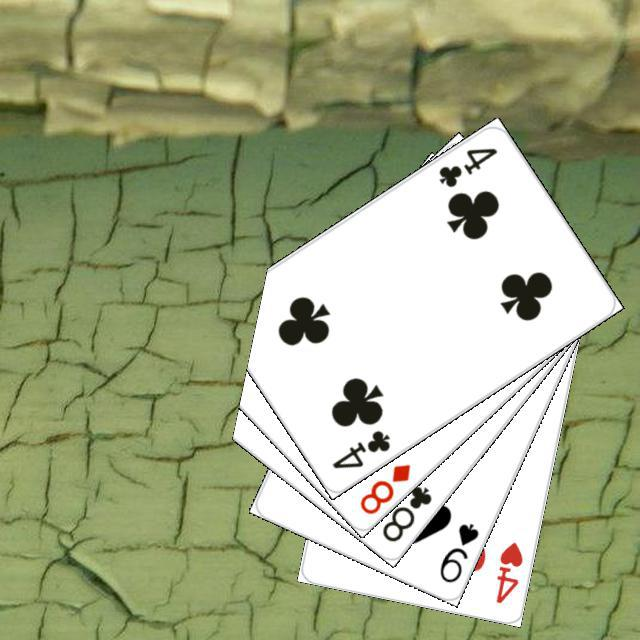4c: (433, 142, 500, 190), (327, 425, 392, 471)
4h: (491, 537, 525, 605)
8c: (377, 480, 434, 544)
8d: (355, 458, 413, 516)
9s: (434, 518, 481, 585)
